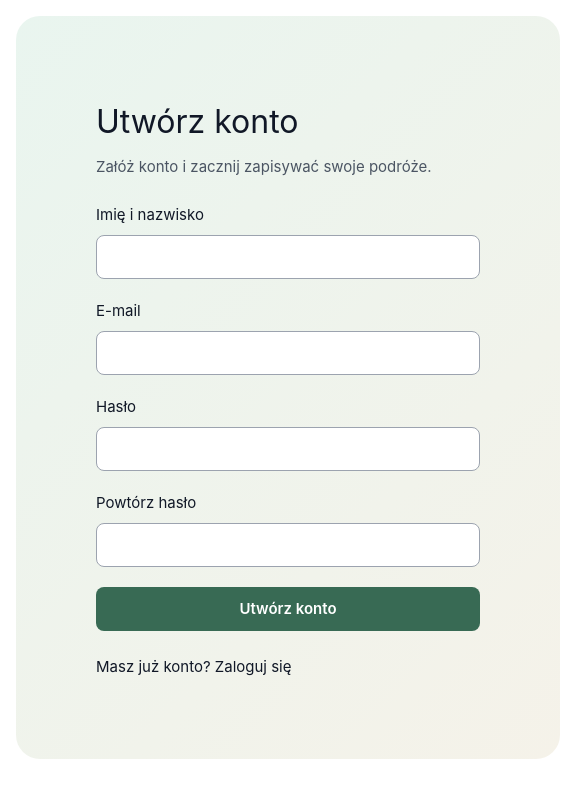
Test: RegisterView › does not submit when password confirmation differs
In the field with id "name": x=288, y=257 [96,235,480,279], type "Ala Kowalska"
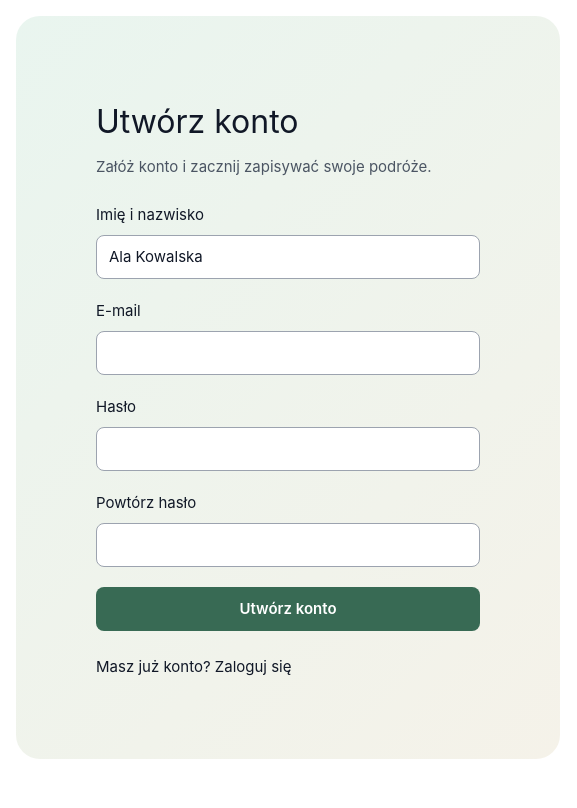
In the field with id "email": x=288, y=353 [96,331,480,375], type "ala@example.com"
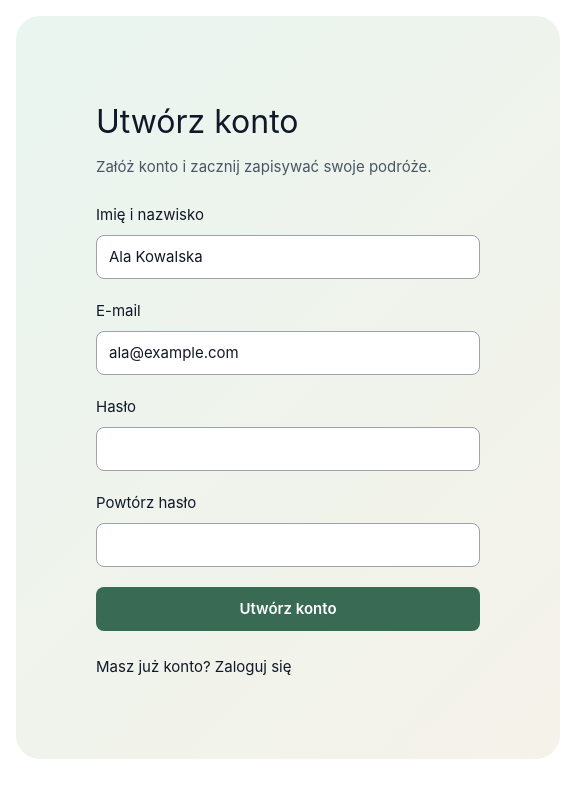
In the password field labelled "Hasło": x=288, y=449 [96,427,480,471], type "Secret123!"
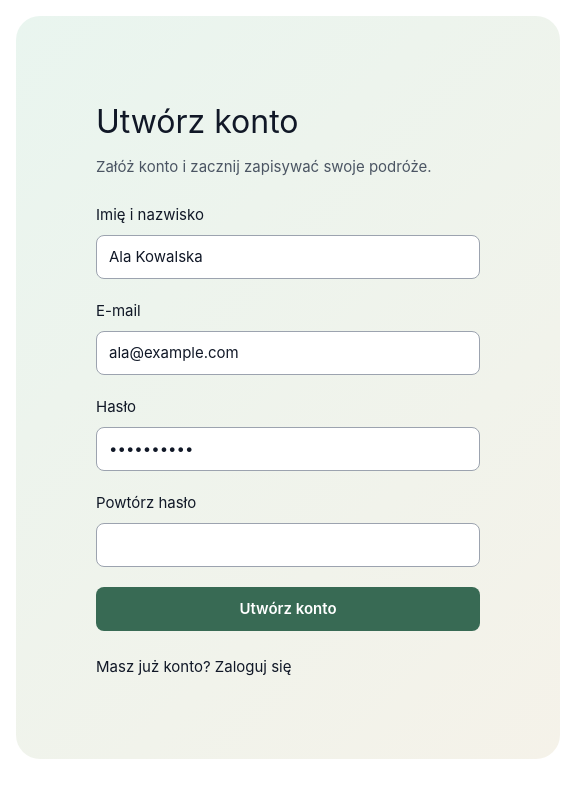
In the password field labelled "Powtórz hasło": x=288, y=545 [96,523,480,567], type "Secret123!"
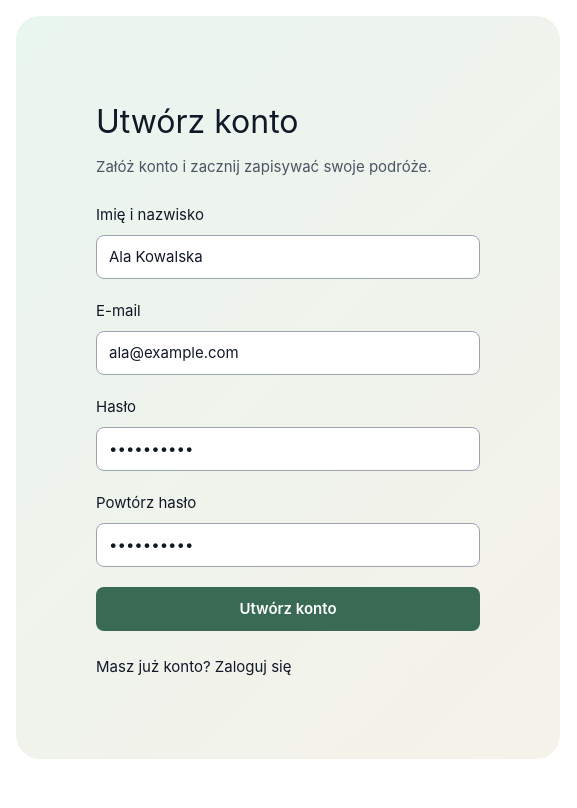
In the password field labelled "Powtórz hasło": x=288, y=545 [96,523,480,567], type "Different123!"
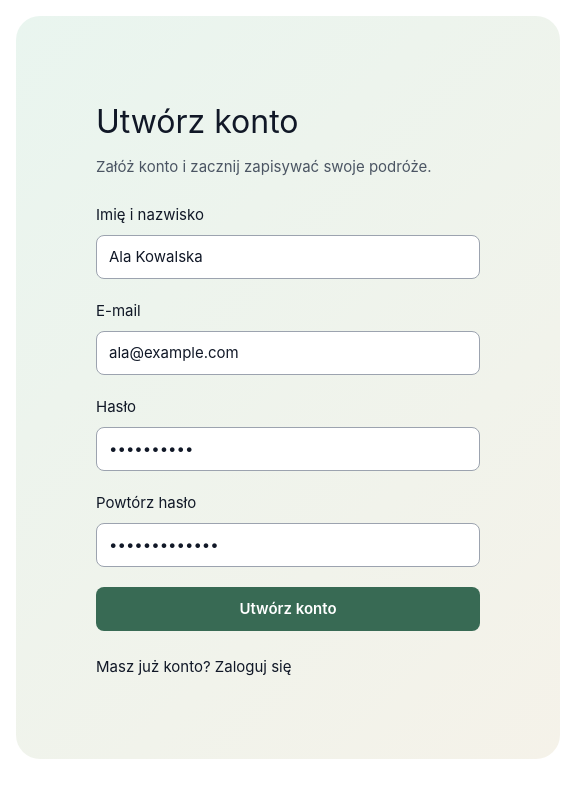
Submit the form, box [96,203,480,631]
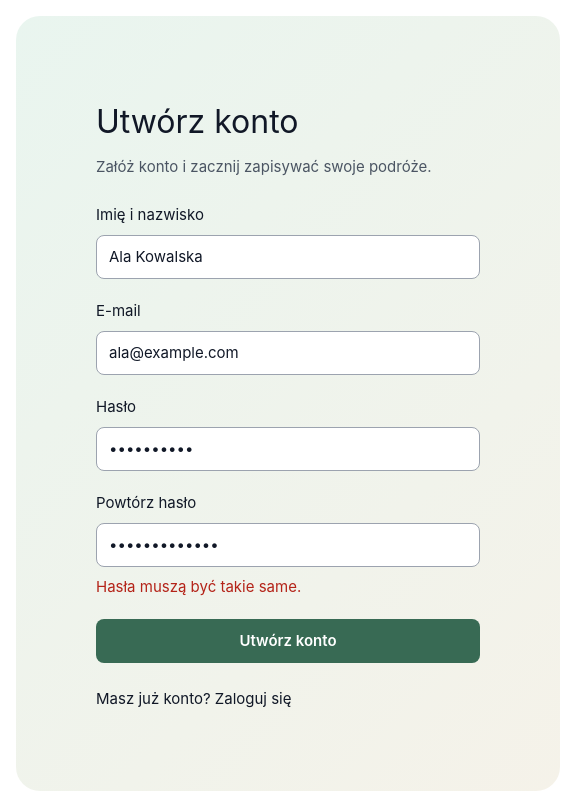
Check: the text "Hasła muszą być takie same." is shown, box [96,577,301,596]
